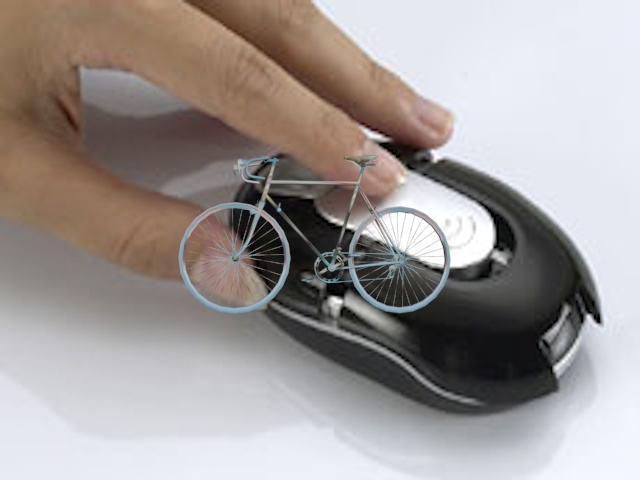bike: (176, 144, 464, 321)
